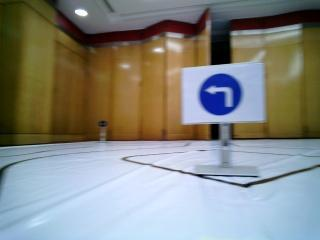left: (189, 67, 273, 119)
